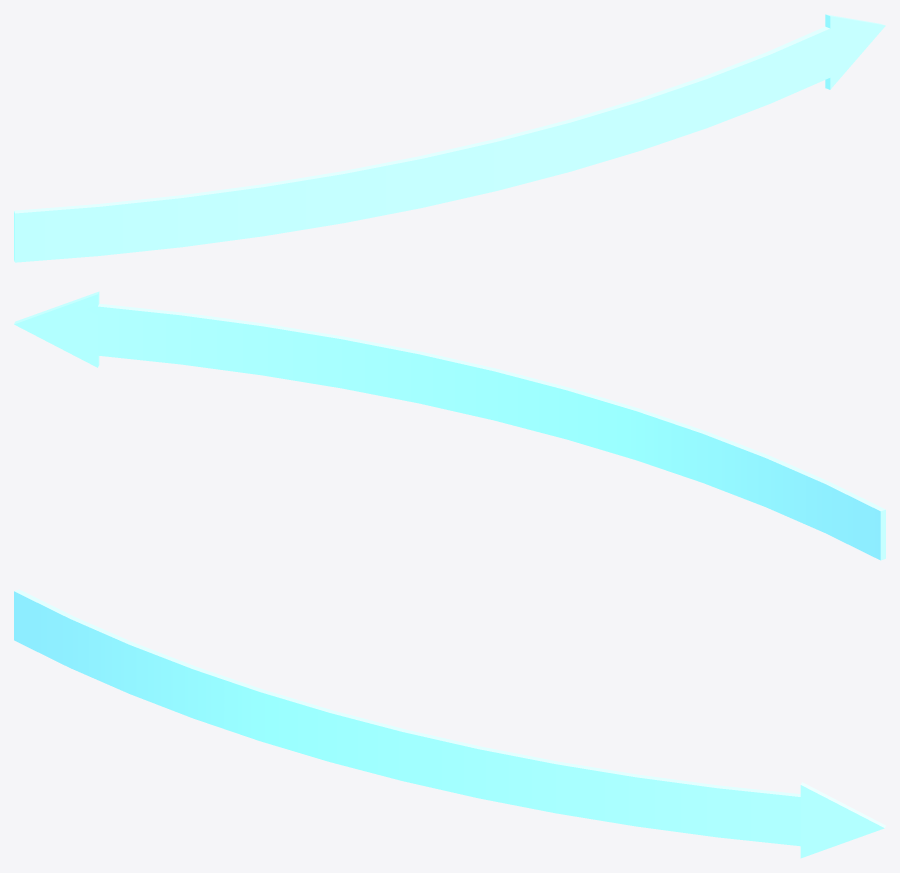
Rendered from arrow-path.glb.
3 renders of one model, top to bottom at view 1: azimuth 30°, elevation 25°; view 2: azimuth 150°, elevation 25°; view 3: azimuth 330°, elevation 25°, orthographic.
Parts seen in each view (by area): view 1: Material2; view 2: Material2; view 3: Material2.
Part boxes in pixels (<box>): Material2: <box>14,14,885,262</box>; Material2: <box>14,291,885,560</box>; Material2: <box>14,589,885,858</box>.
Bounding box in the file's own units: 1.1 × 0.089 × 0.1099.
